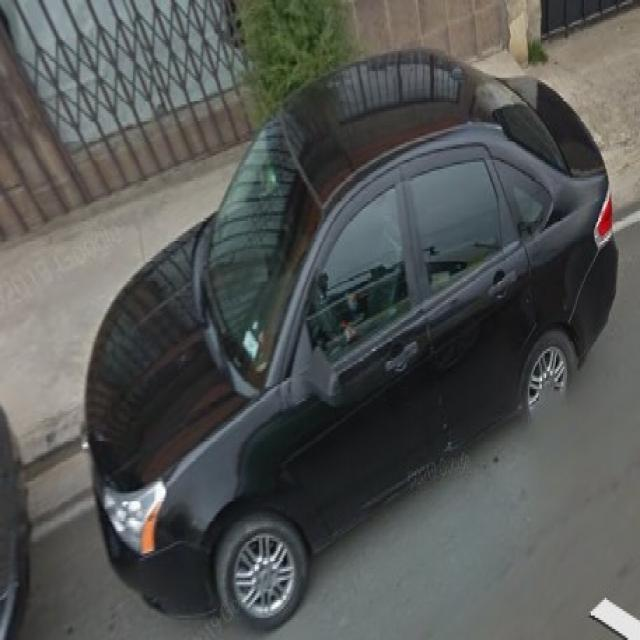truck: (82, 72, 618, 619)
